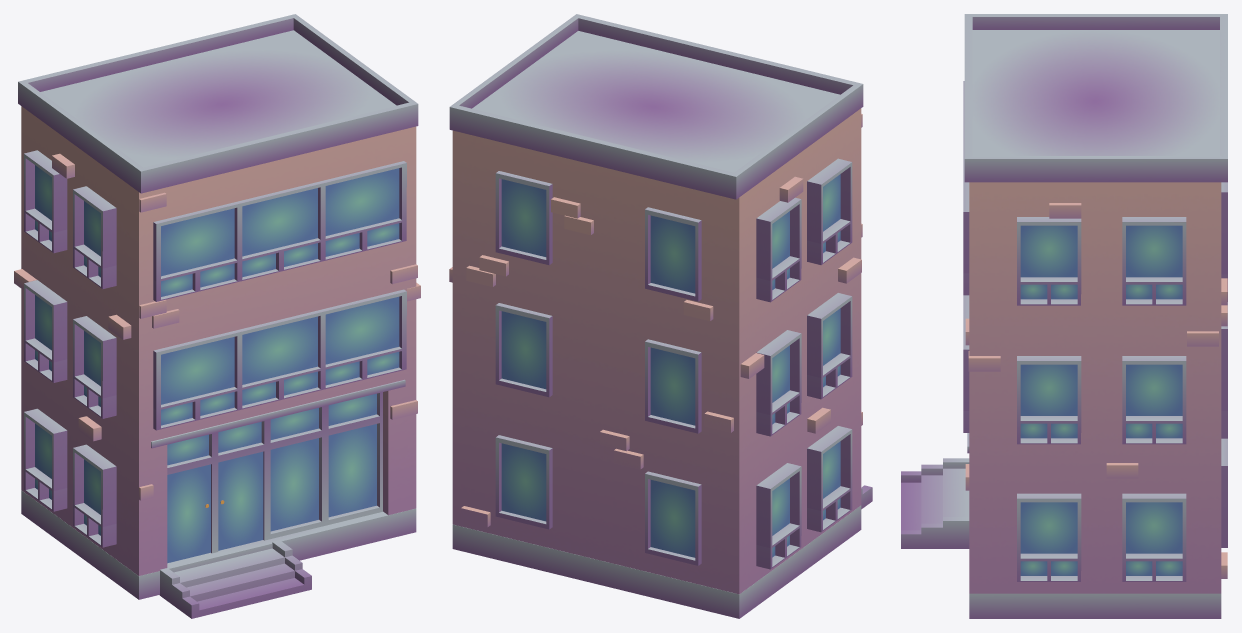
File: SM_3F_L_Half_03.fbx
The picture shows the model from 3 angles, left to right: view 1: azimuth 30°, elevation 25°; view 2: azimuth 150°, elevation 25°; view 3: azimuth 270°, elevation 25°; orthographic projection. The views are drawn at different scales.
Parts seen in each view (by area): view 1: SM_3F_L_Half_03; view 2: SM_3F_L_Half_03; view 3: SM_3F_L_Half_03.
Boxes of the visible parts, <box> form: SM_3F_L_Half_03: <box>14,14,420,618</box>; SM_3F_L_Half_03: <box>449,14,872,618</box>; SM_3F_L_Half_03: <box>901,14,1227,618</box>.
Size of the model in its own units: 7.89 by 6.94 by 10.8.
